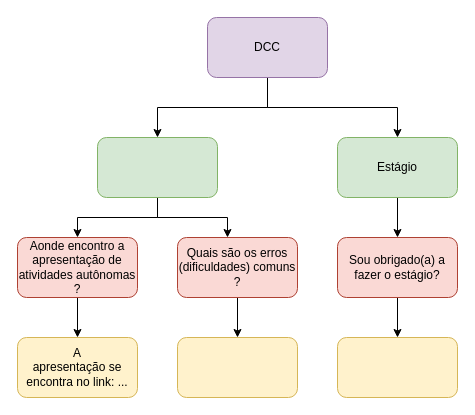
Image size: 475x415. Some labels were removed from this diagram. Here are the shapes that lost their labels. From the top down, the centre of each, then its label:
At point 157,167: "Atividades Autônomas".
At point 237,367: "a) as horas reais não correspondem às horas das AAs...".
At point 397,367: "Não. O estágio do curso de Ciência da Computação supervisionado...".
